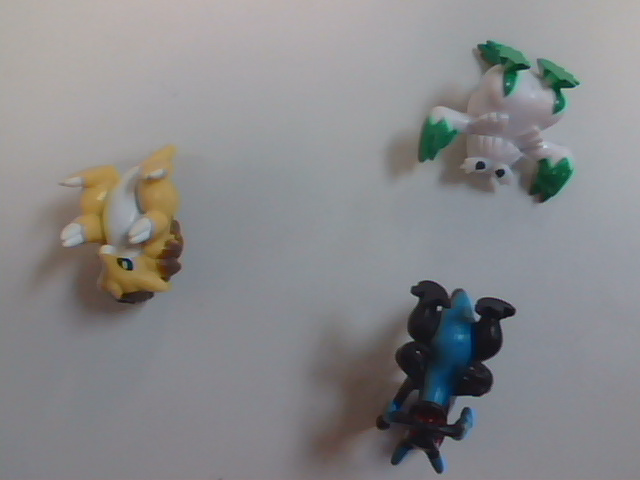abomasnow: (399, 22, 611, 216)
charizard: (315, 271, 535, 480)
sandslash: (41, 133, 223, 328)
